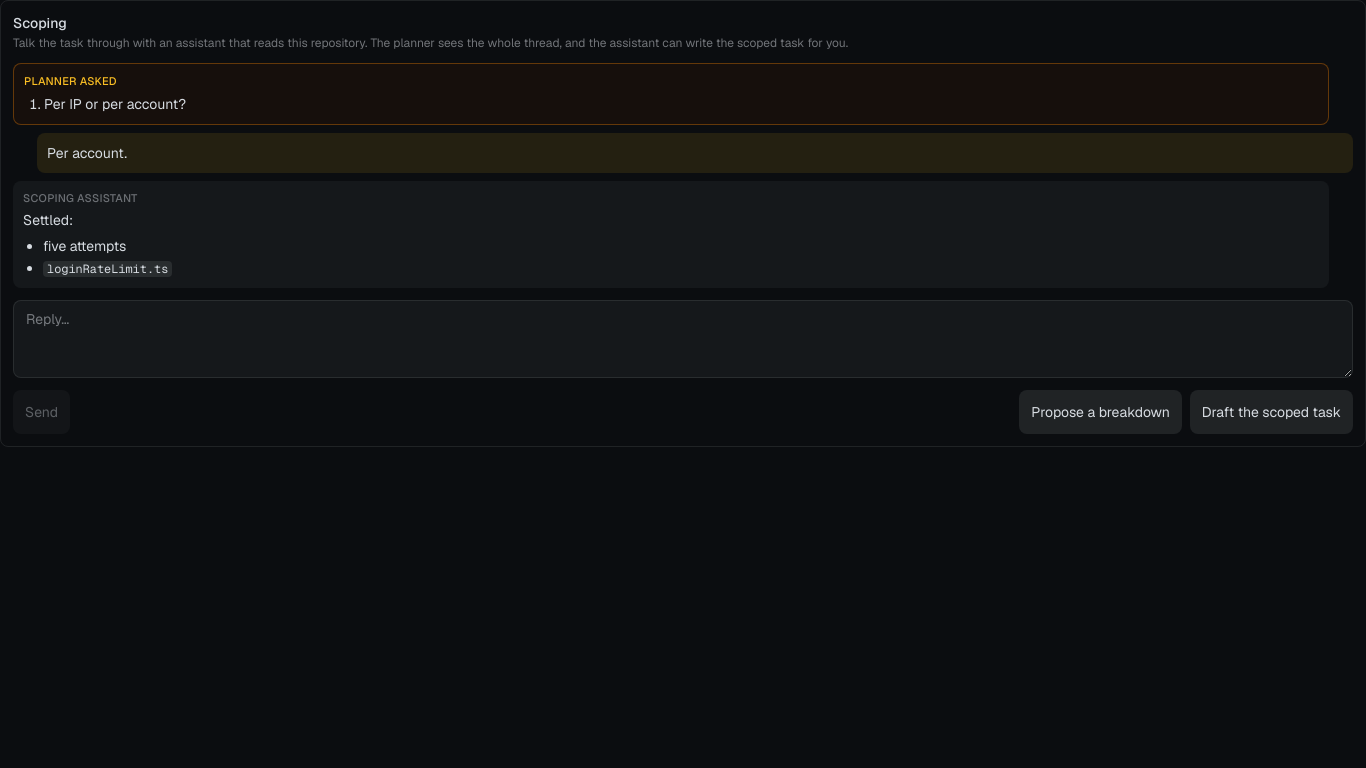
Test: ScopingPanel › proposes a breakdown, lets it be edited, and applies the edited version
Step 1. Click the button "Propose a breakdown" → (1101, 412), box [1019,390,1182,434]
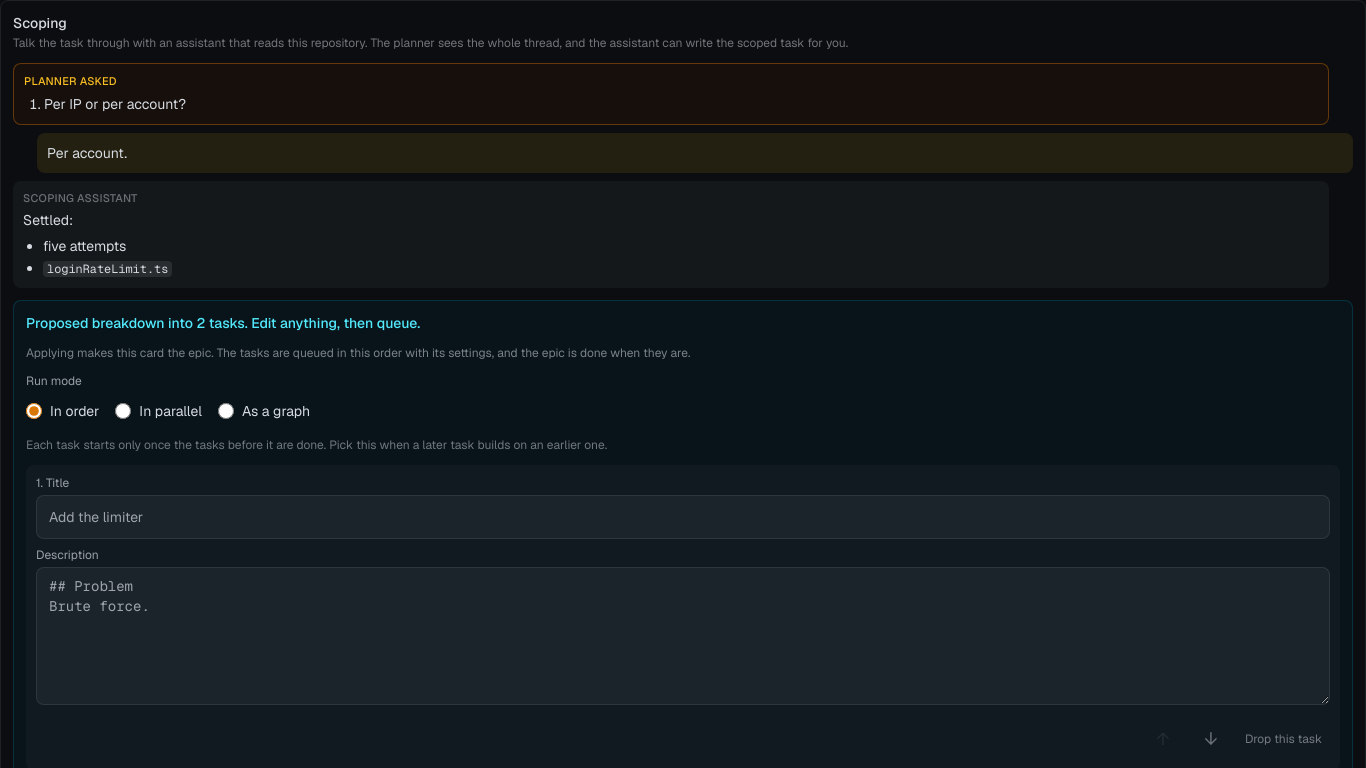
Expected: the field labelled "1. Title" holds "Add the limiter"
Expected: the radio button labelled "In order" is checked, [26,389,42,433]
Step 2. Replace the text in the field labelled "1. Title" with "Add the login limiter" → (683, 517), box [36,495,1330,539]
(page scrolled)
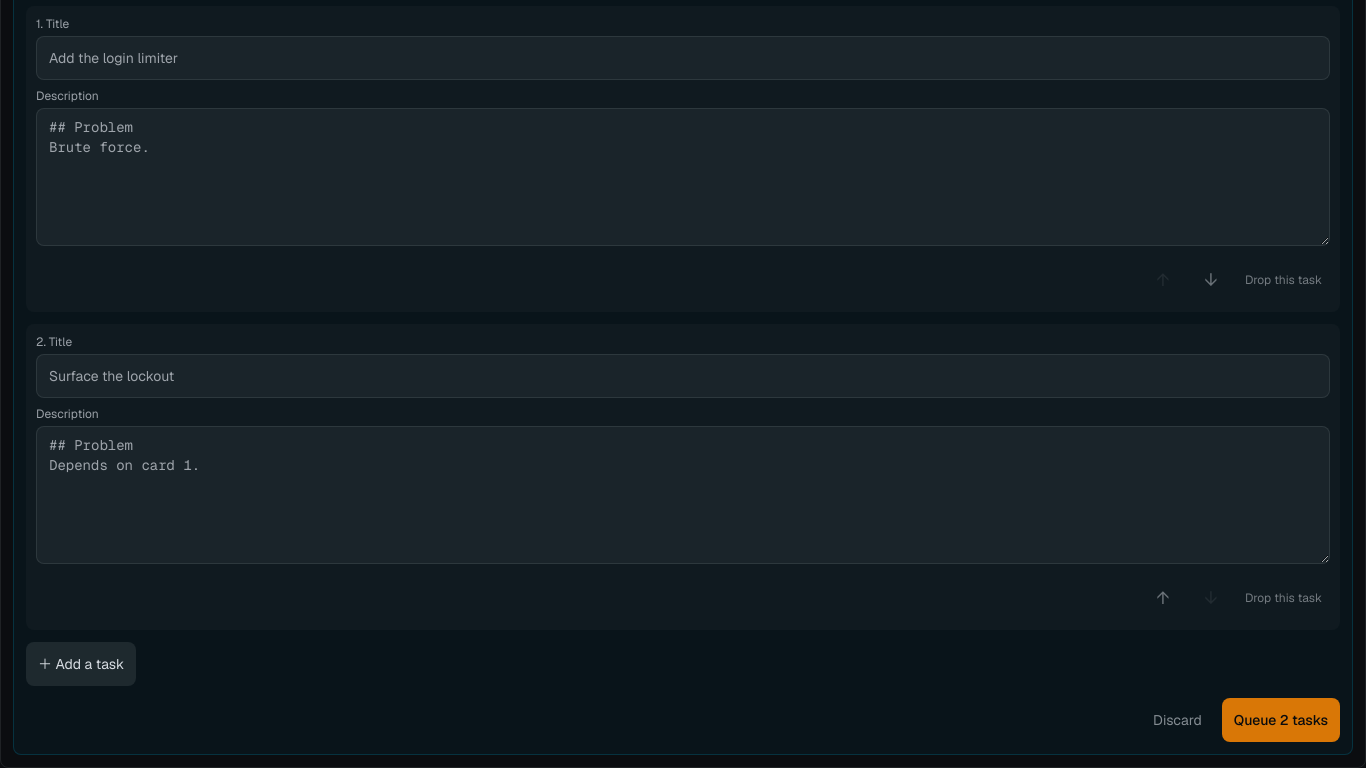
Step 3. Click the button "Queue 2 tasks" → (1281, 720), box [1222,698,1340,742]
(page scrolled)
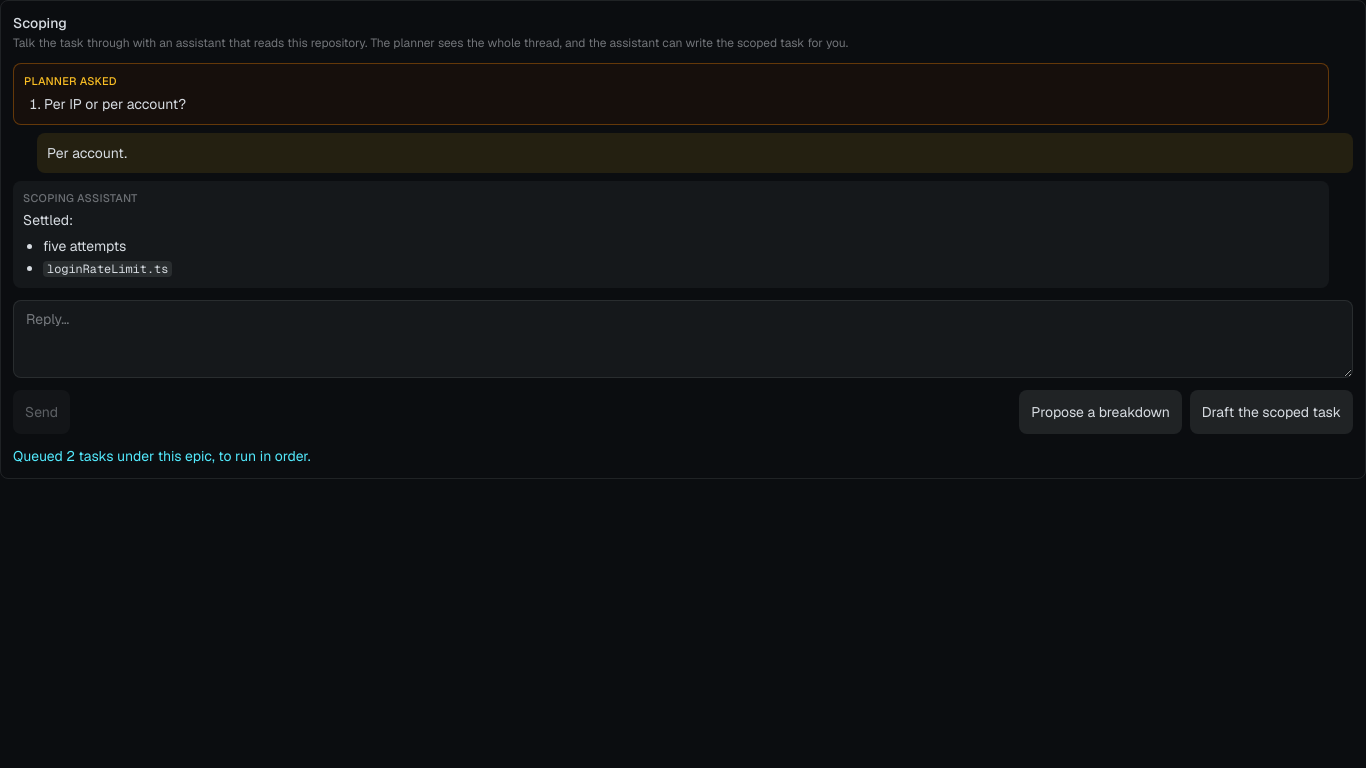
Expected: the text "Queued 2 tasks under this epic, to run in order." is shown, [13,447,311,465]
